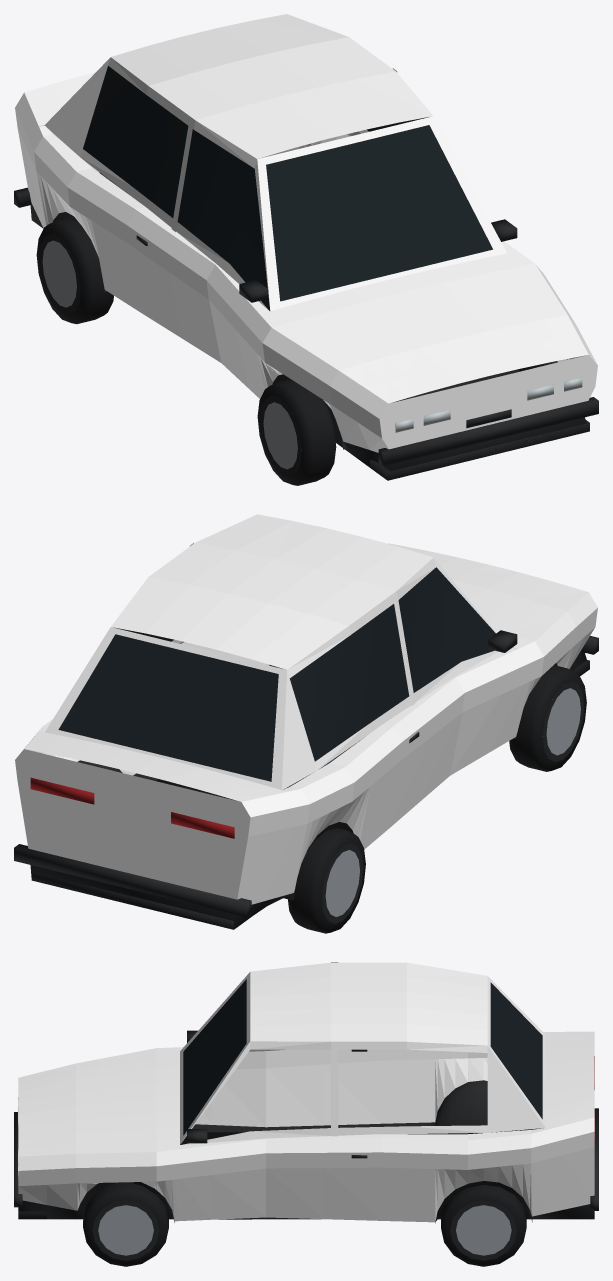
File: vallon_gema.glb
3 renders of one model, top to bottom at view 1: azimuth 30°, elevation 25°; view 2: azimuth 150°, elevation 25°; view 3: azimuth 270°, elevation 25°, orthographic. The views are drawn at different scales.
Visible parts, largest first — view 1: Body_Paint, Body_Details, Mount_FrontLeft_Wheel_Details, Mount_RearLeft_Wheel_Details; view 2: Body_Paint, Body_Details, Mount_RearLeft_Wheel_Details, Mount_FrontLeft_Wheel_Details; view 3: Body_Paint, Body_Details, Mount_FrontRight_Wheel_Details, Mount_RearRight_Wheel_Details.
Boxes of the visible parts, x1,y1,x2,y2 form: Body_Paint: (15,14,597,452); Body_Details: (14,66,598,480); Mount_FrontLeft_Wheel_Details: (257,379,336,485); Mount_RearLeft_Wheel_Details: (36,217,113,324); Body_Paint: (15,514,597,904); Body_Details: (14,567,598,929); Mount_RearLeft_Wheel_Details: (288,828,365,933); Mount_FrontLeft_Wheel_Details: (509,665,586,771); Body_Paint: (18,962,594,1222); Body_Details: (14,979,598,1223); Mount_FrontRight_Wheel_Details: (83,1182,168,1266); Mount_RearRight_Wheel_Details: (441,1185,526,1266).
Bounding box in the file's own units: 1.72 × 1.51 × 3.74.
2 materials, 1 textured.
